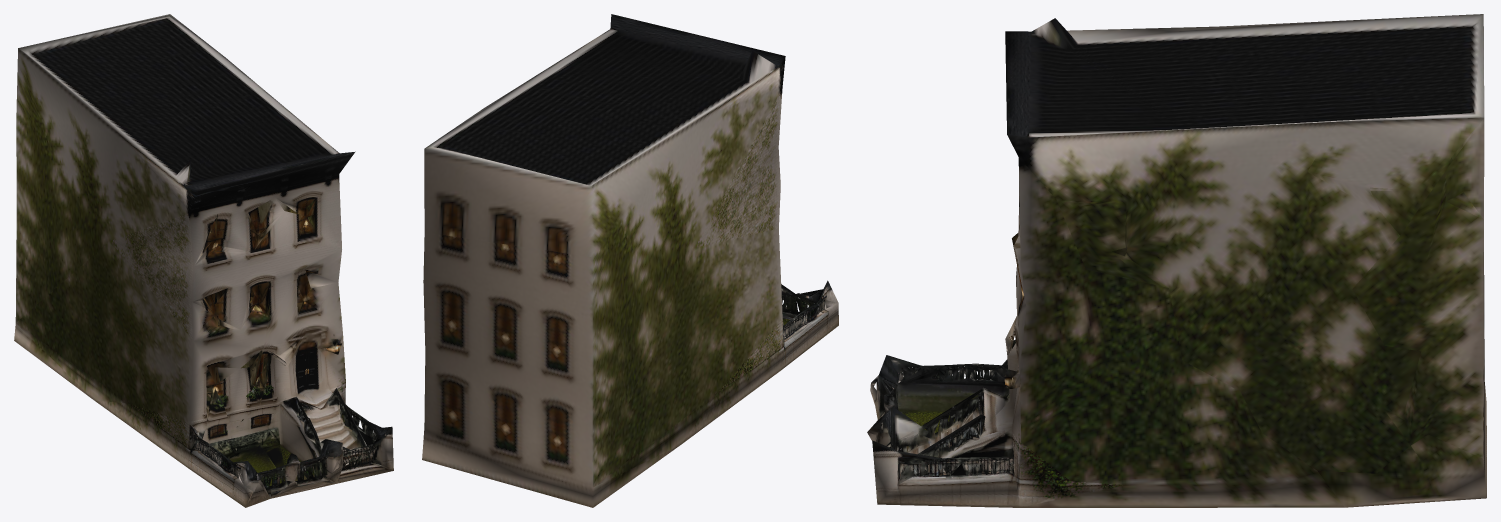
File: tripo_convert_0a55ac9a-ff6d-4f3d-81f1-a7339d41ef58.fbx
The picture shows the model from 3 angles, left to right: view 1: azimuth 30°, elevation 25°; view 2: azimuth 150°, elevation 25°; view 3: azimuth 270°, elevation 25°; orthographic projection. The views are drawn at different scales.
Visible parts, largest first — view 1: tripo_node_0a55ac9a; view 2: tripo_node_0a55ac9a; view 3: tripo_node_0a55ac9a.
Part boxes in pixels (left/top/right/bottom): tripo_node_0a55ac9a: left=14, top=14, right=393, bottom=507; tripo_node_0a55ac9a: left=422, top=14, right=838, bottom=507; tripo_node_0a55ac9a: left=867, top=14, right=1486, bottom=507.
Bounding box in the file's own units: 0.3995 × 0.6888 × 0.9727.
Materials: 1 (1 with a texture image).
